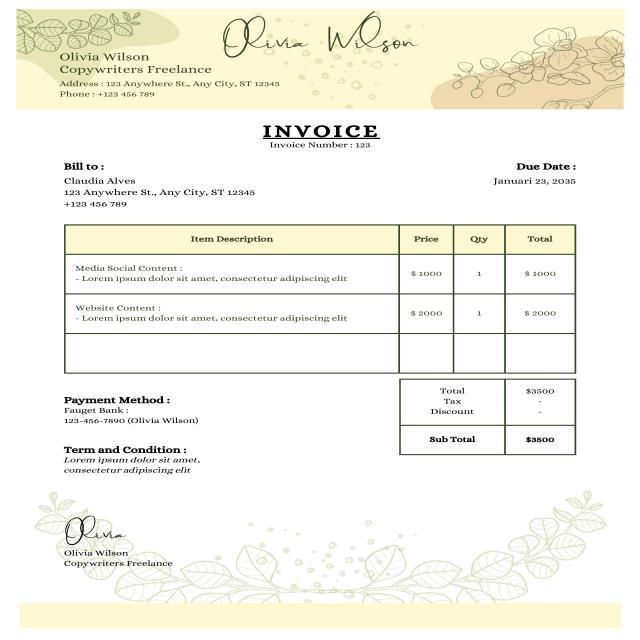ROI: (63, 228, 577, 336), (396, 378, 576, 454), (56, 49, 286, 100), (63, 161, 264, 213), (215, 19, 419, 59), (61, 515, 174, 576), (255, 119, 401, 160), (61, 439, 203, 481), (65, 396, 198, 432), (489, 155, 584, 192)
